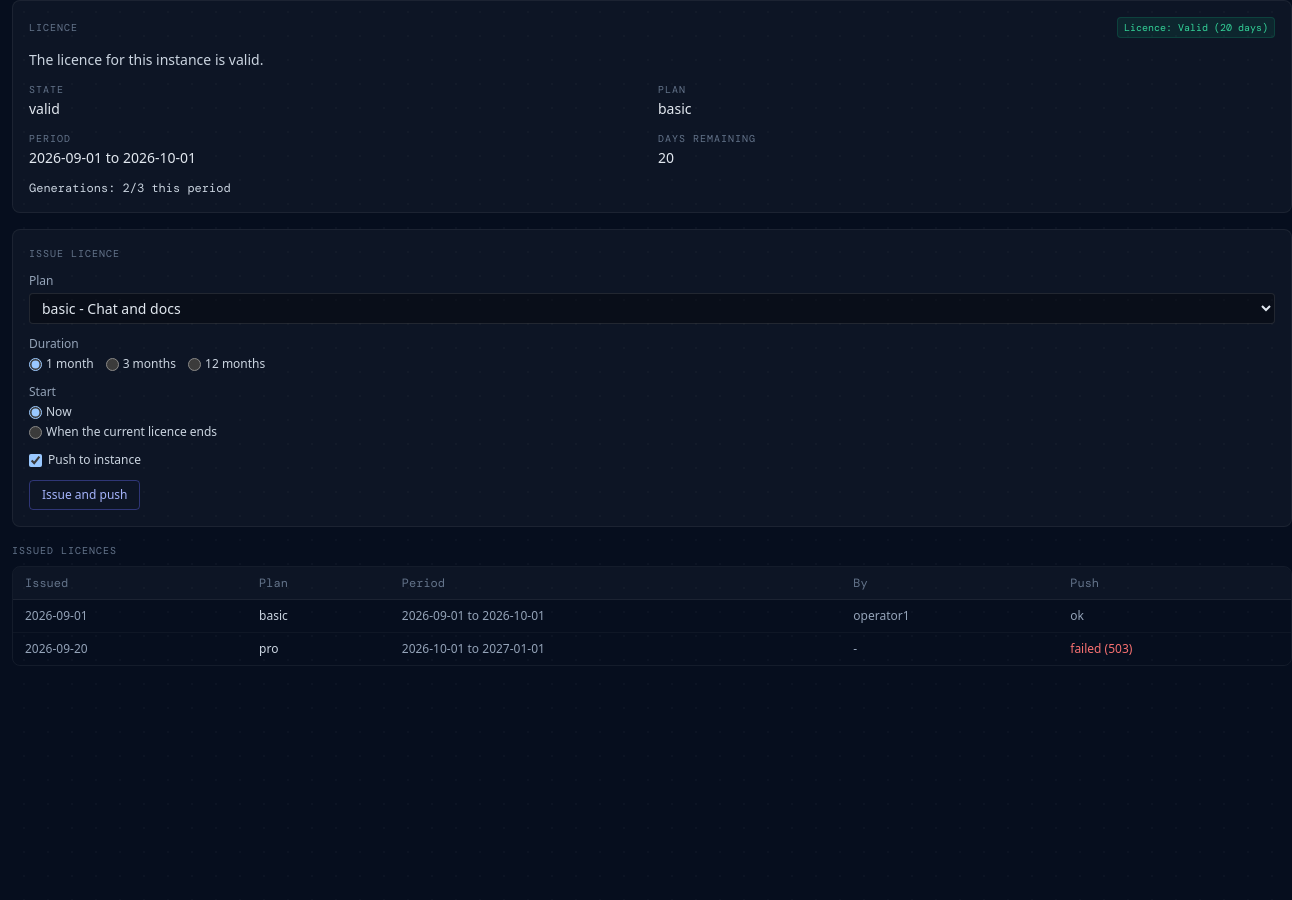
Scenario: licence issue form › says the licence was queued as next when the instance put it in the next slot
Click the button "Issue and push".
click(85, 495)  # box [29, 480, 140, 510]
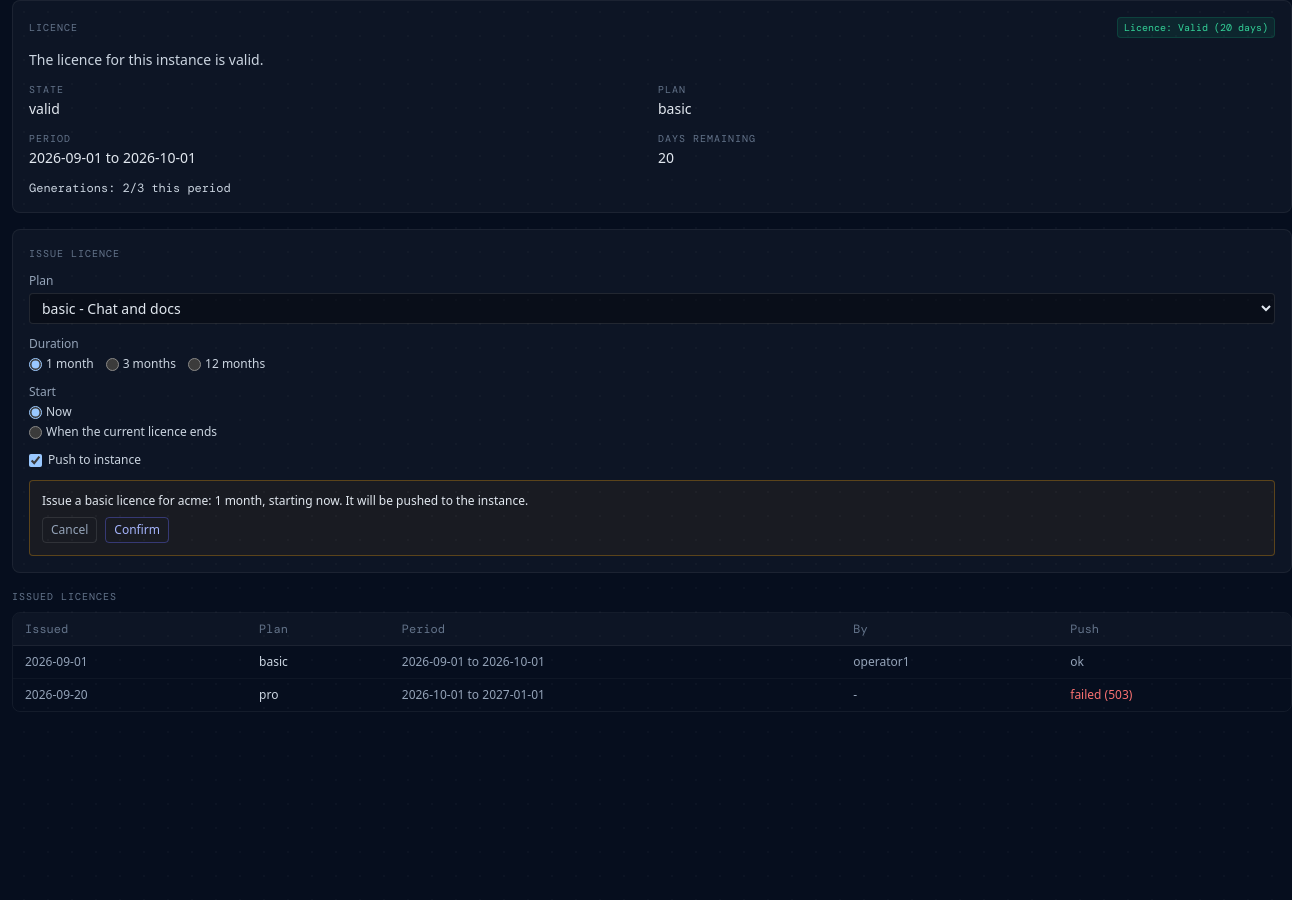
Click the button "Confirm".
click(137, 530)  # box [105, 517, 169, 543]
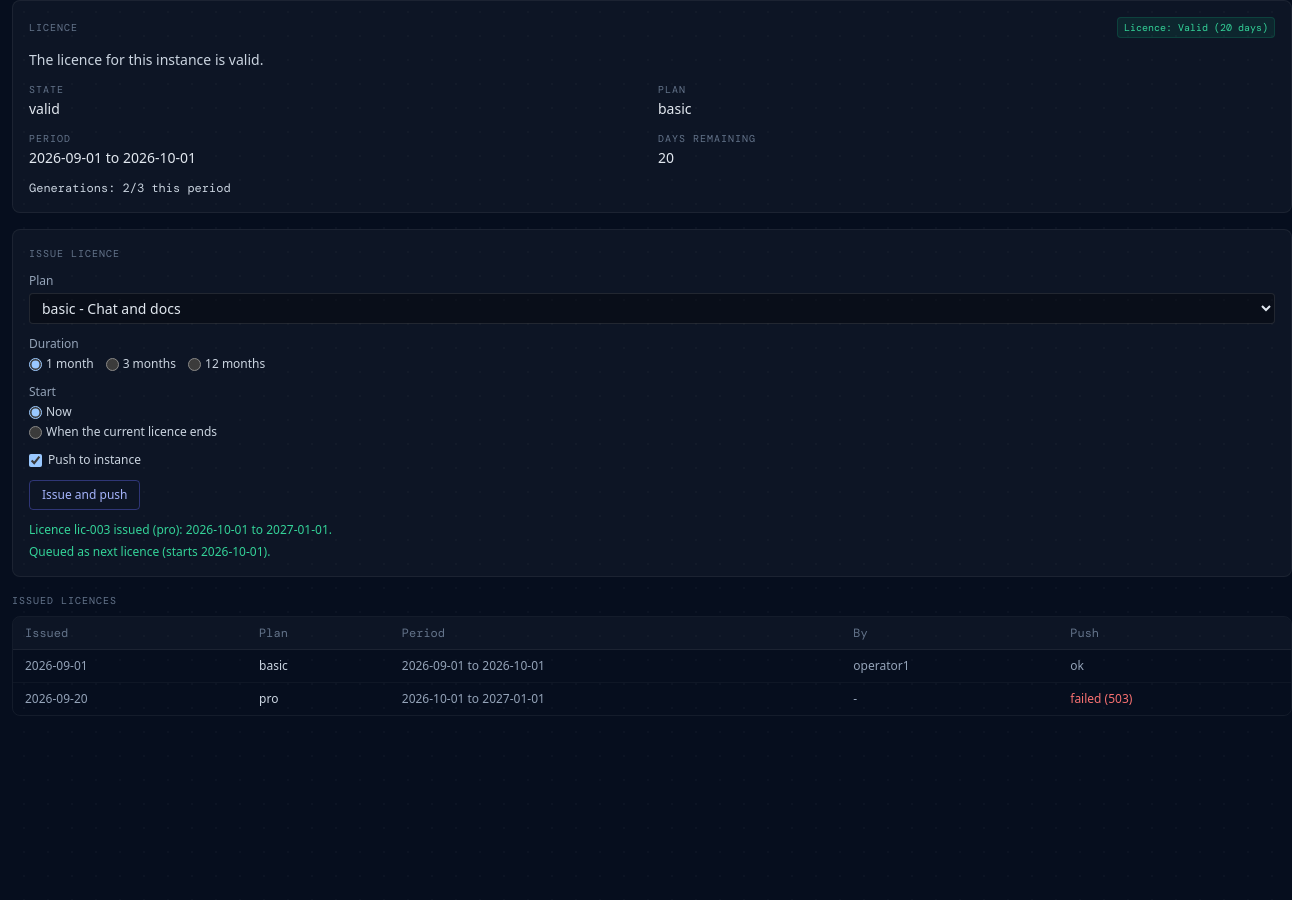
Expected: the element with test id "issue-result" does not show "instance reports", [29, 521, 332, 560]
Result: the element with test id "issue-result" shows "Queued as next licence (starts 2026-10-01)." at [29, 543, 270, 560]
